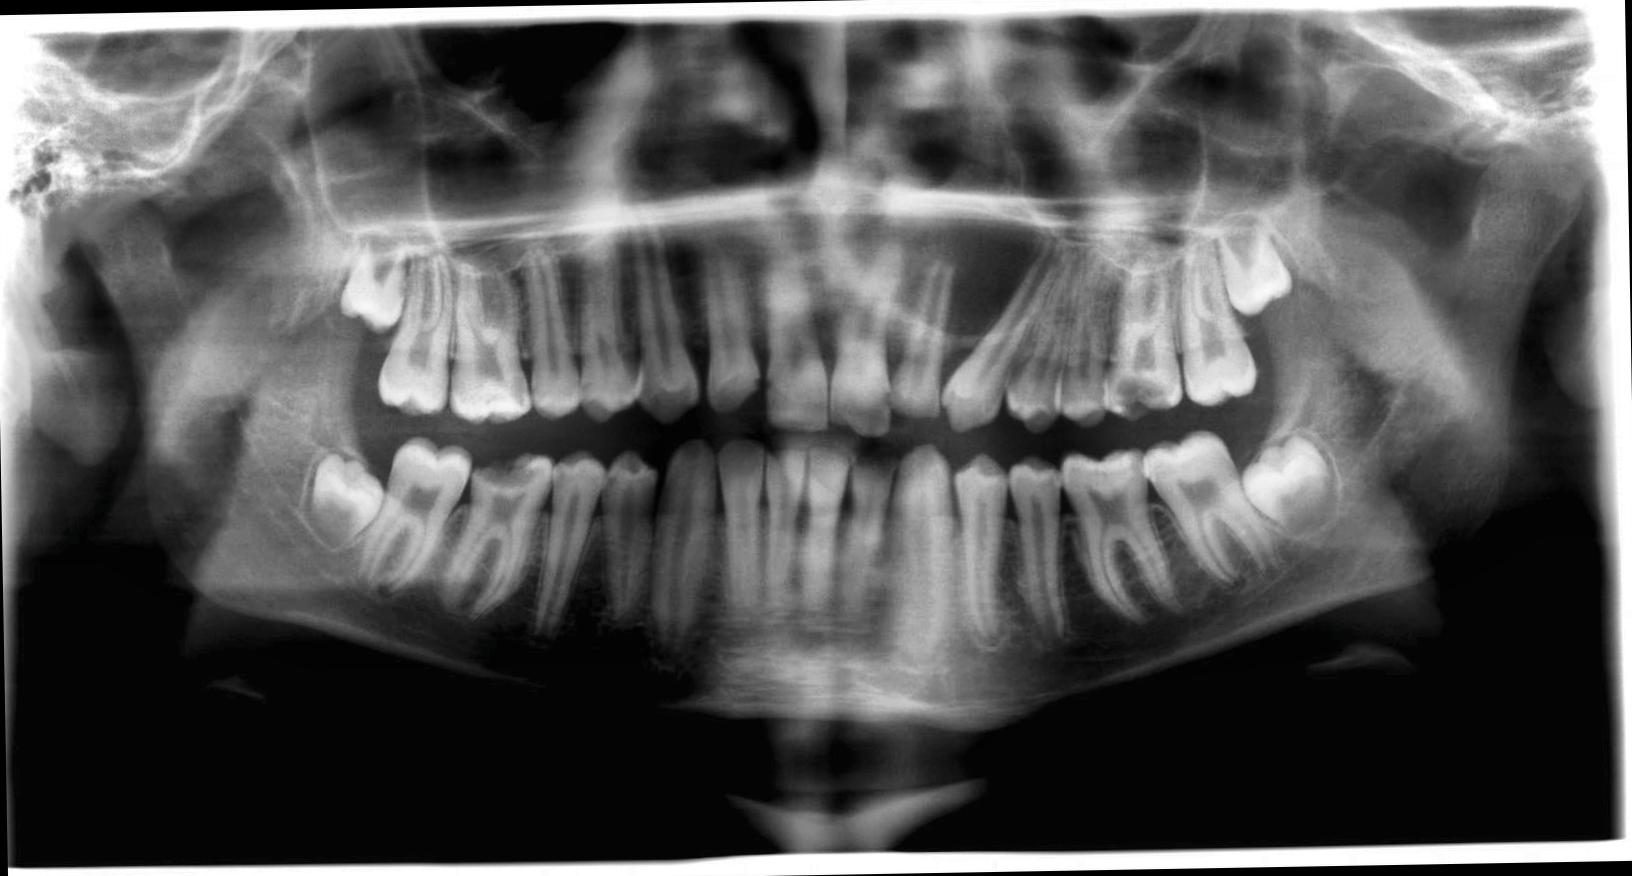radikuler: (837, 136, 1048, 341)
